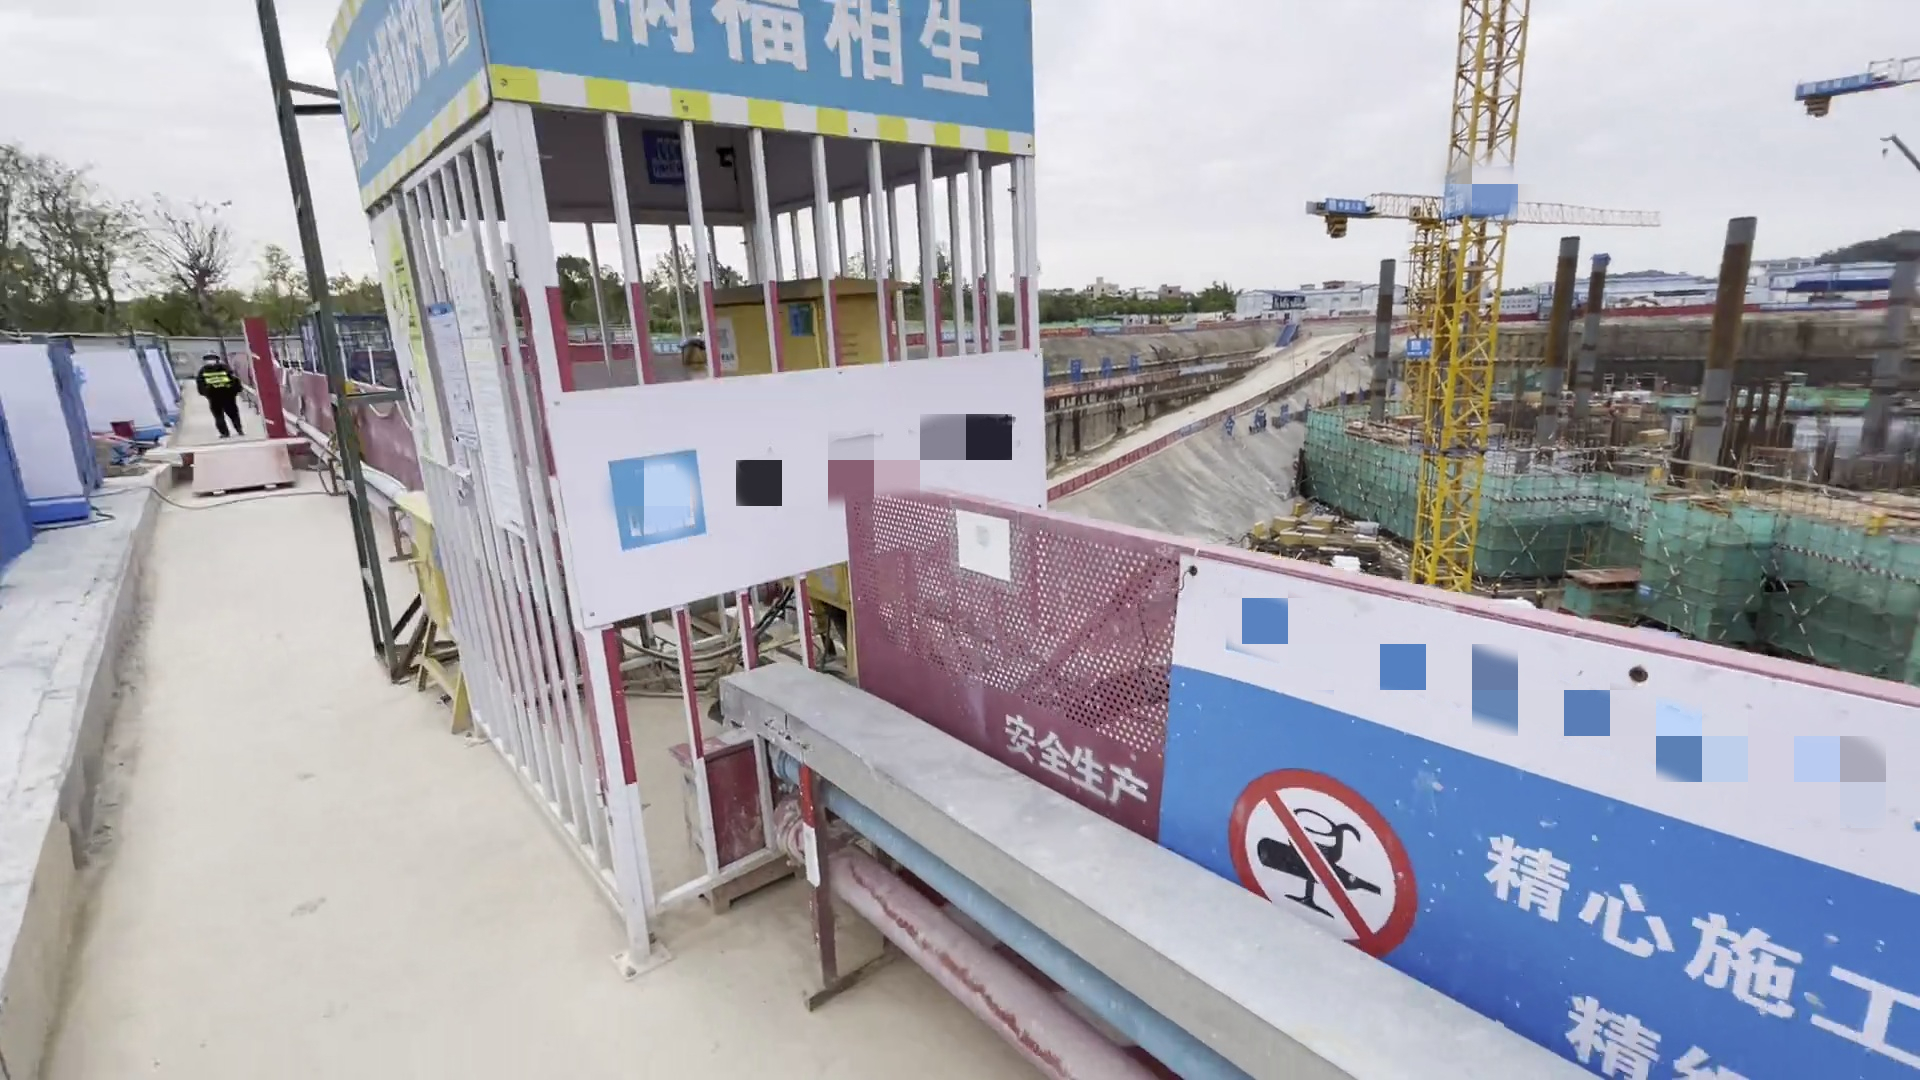board: (187, 441, 308, 508)
ebox: (683, 275, 918, 631), (386, 488, 510, 734)
fence: (837, 477, 1430, 997), (1417, 588, 1920, 1080), (281, 376, 419, 491)
helmet: (200, 350, 223, 359)
hook: (1877, 145, 1891, 163)
person: (189, 345, 261, 441)
scaffold: (1493, 590, 1544, 611), (1334, 550, 1367, 572), (1350, 516, 1381, 538)
slogan: (1114, 542, 1920, 1080), (300, 3, 1137, 207), (545, 335, 1077, 642), (1421, 166, 1540, 235), (1800, 59, 1883, 122), (1408, 308, 1454, 381), (1295, 188, 1375, 226)
vest: (198, 360, 235, 397)
